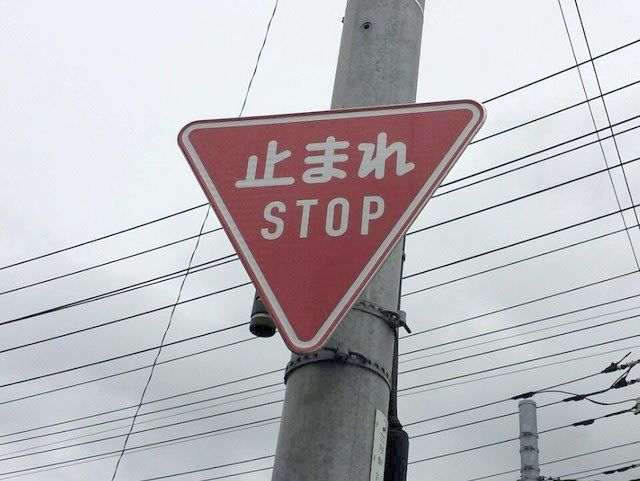Regulatory_sign_triangle: (176, 97, 487, 357)
